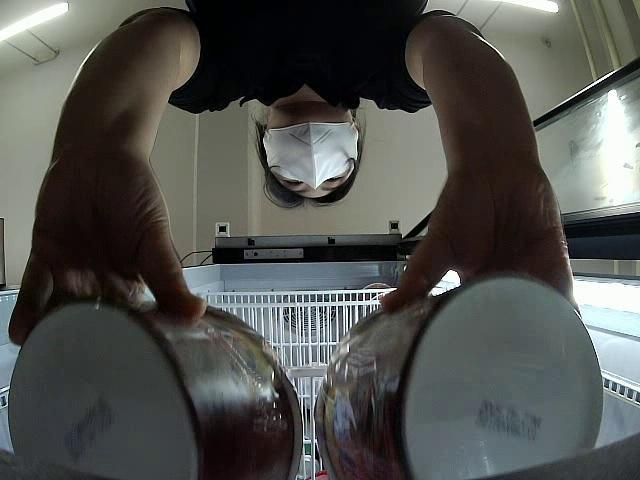05_nuguri_L: (314, 273, 606, 480), (5, 291, 304, 480)
